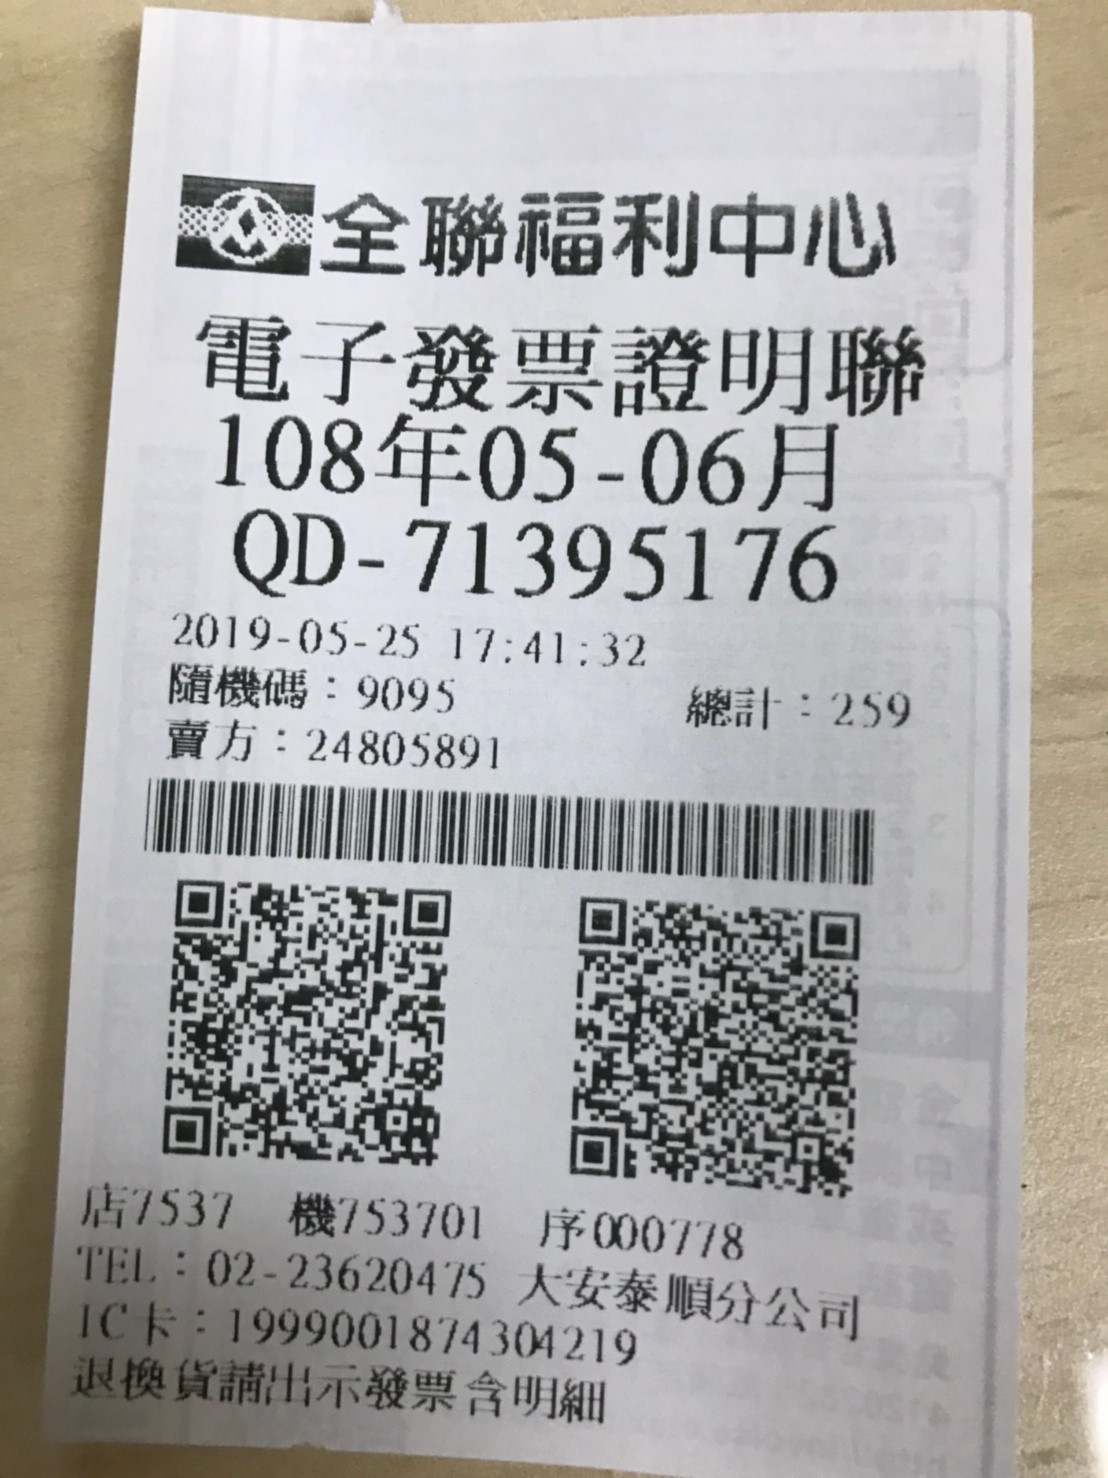Date_New: (214, 411, 847, 516)
Number_New: (405, 516, 847, 607)
